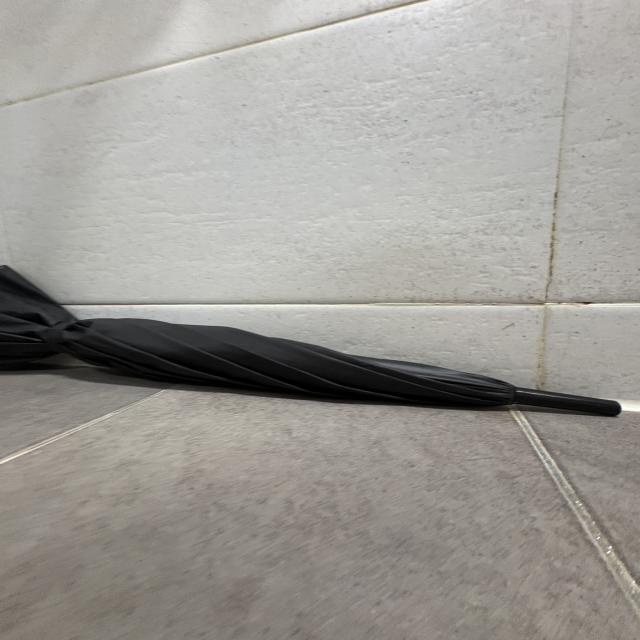umbrella: (0, 264, 620, 418)
